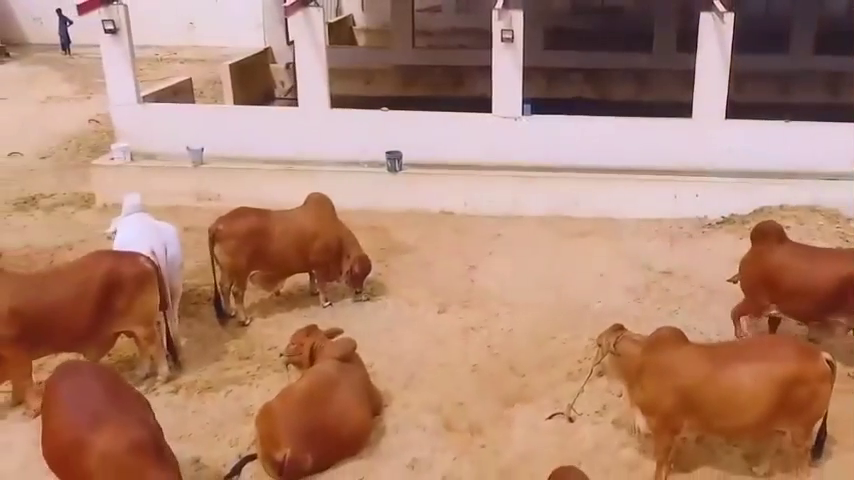bo: (584, 320, 841, 474), (6, 250, 185, 405), (202, 190, 385, 322), (244, 320, 392, 472), (715, 215, 854, 342), (39, 363, 188, 480), (105, 193, 199, 324)
